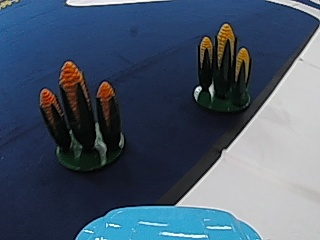corn: (38, 57, 127, 172), (192, 19, 256, 113)
